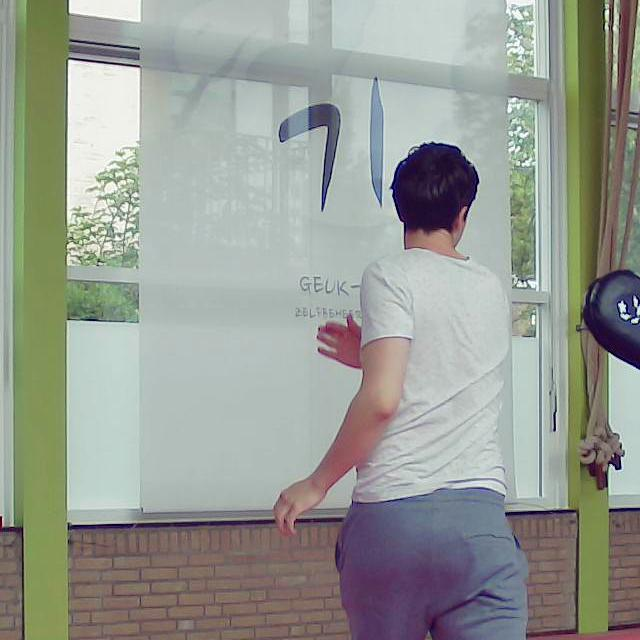paddle: (584, 268, 640, 391)
